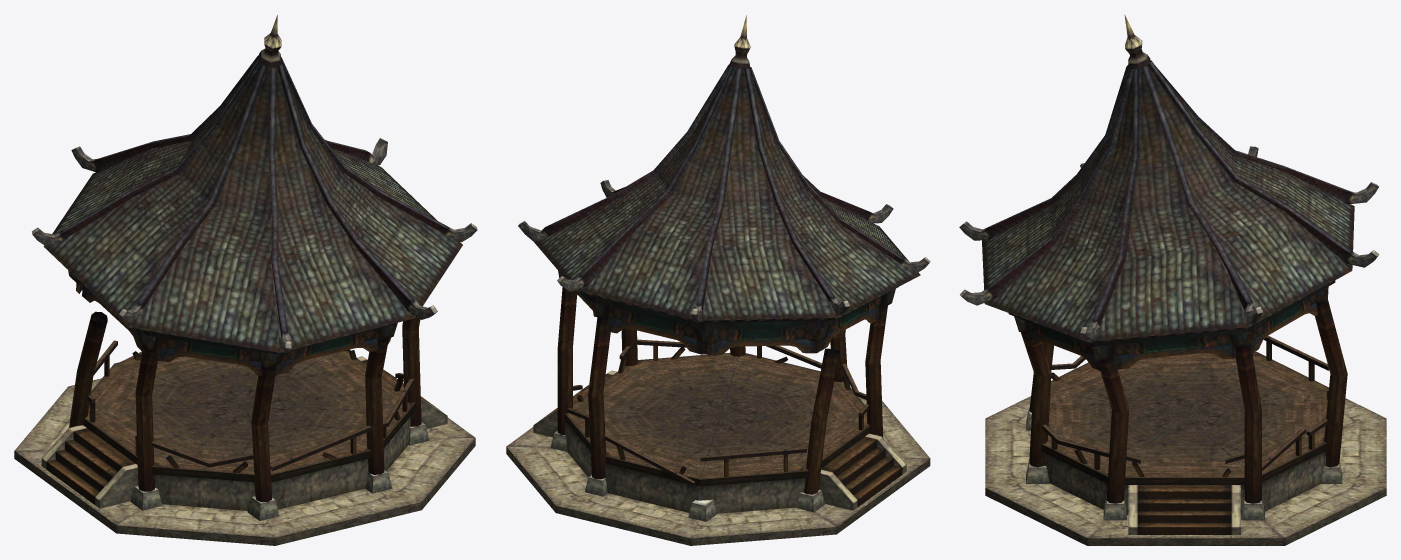
Rendered from b1-001-house3_01_01.fbx.
3 views of the same model, side by side, from view 1: azimuth 30°, elevation 25°; view 2: azimuth 150°, elevation 25°; view 3: azimuth 270°, elevation 25° (orthographic). The views are drawn at different scales.
Visible parts, largest first — view 1: b1-001-house3; view 2: b1-001-house3; view 3: b1-001-house3.
Part boxes in pixels (x1,y1,x2,y2): b1-001-house3: (14, 15, 477, 545); b1-001-house3: (506, 15, 930, 545); b1-001-house3: (959, 15, 1386, 545).
Bounding box in the file's own units: 8.17 × 10.02 × 8.67.
